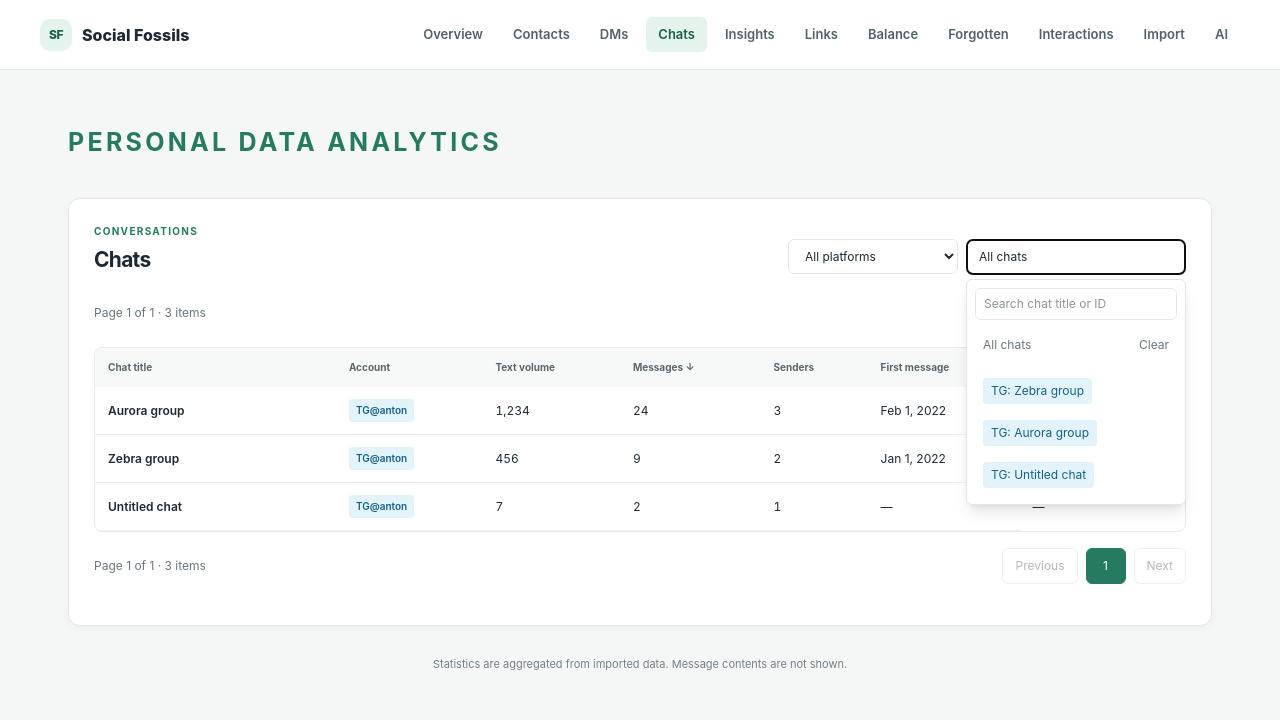
Test: dashboard › filters chats and contacts only after choosing a matching name
Earlier steps of the test are not shown.
In the search field named "Choose a chat search": (1076, 304) [975, 288, 1177, 320], type "  AURORA "
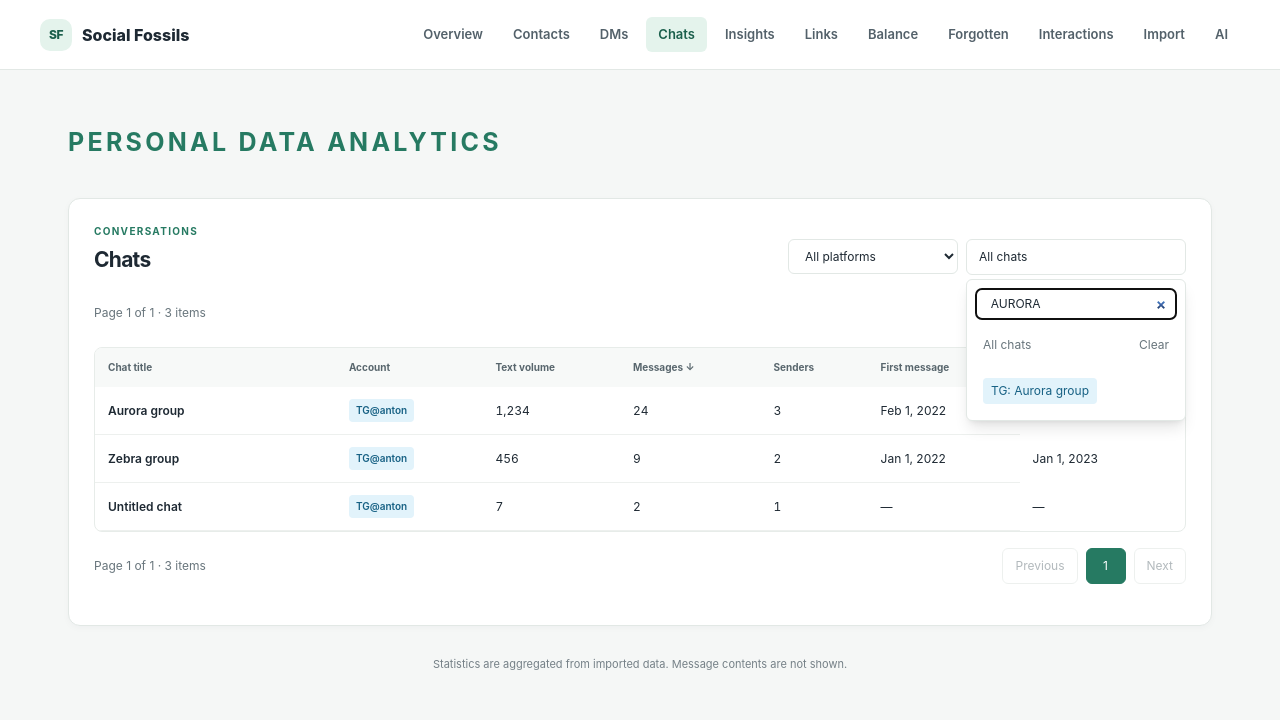
Click the option "TG: Aurora group": (1076, 391) [975, 370, 1177, 412]
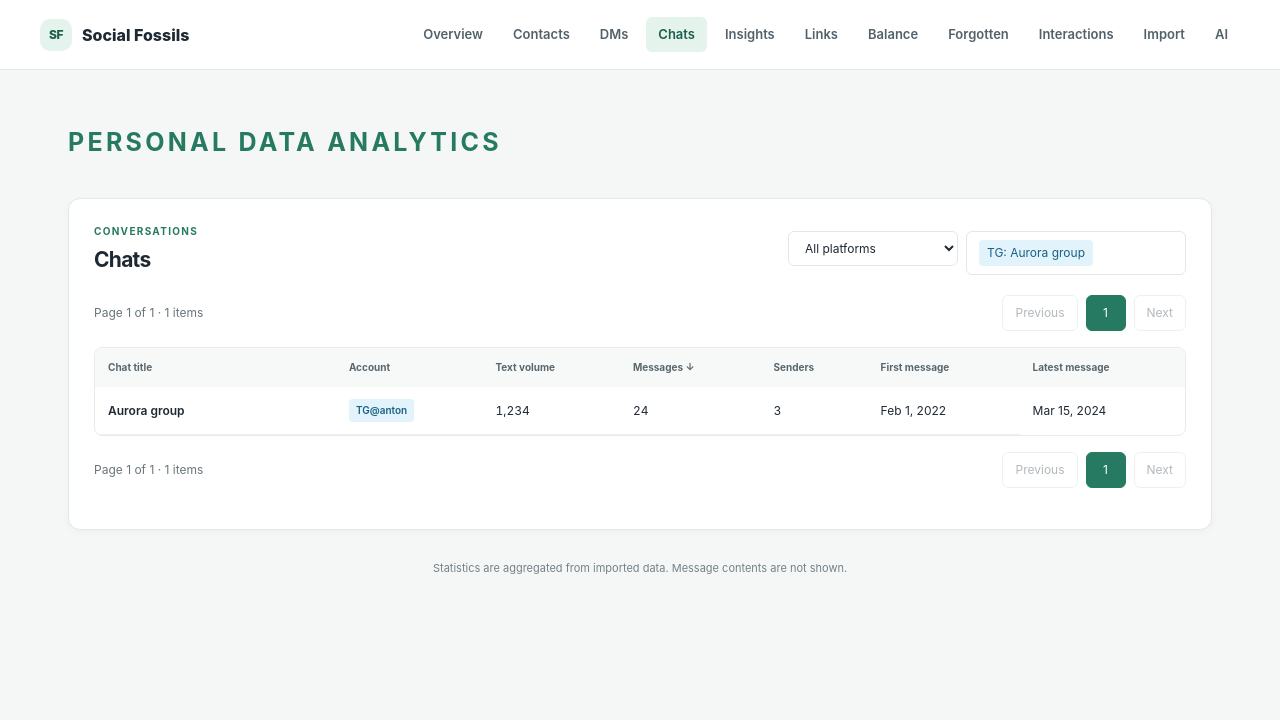
Expected: the row "Aurora group TG@anton 1,234 24 3 Feb 1, 2022 Mar 15, 2024" is shown, [95, 387, 1185, 434]
Expected: the button "Zebra group" is gone
Click the tab "Contacts": (541, 35) [501, 17, 582, 52]
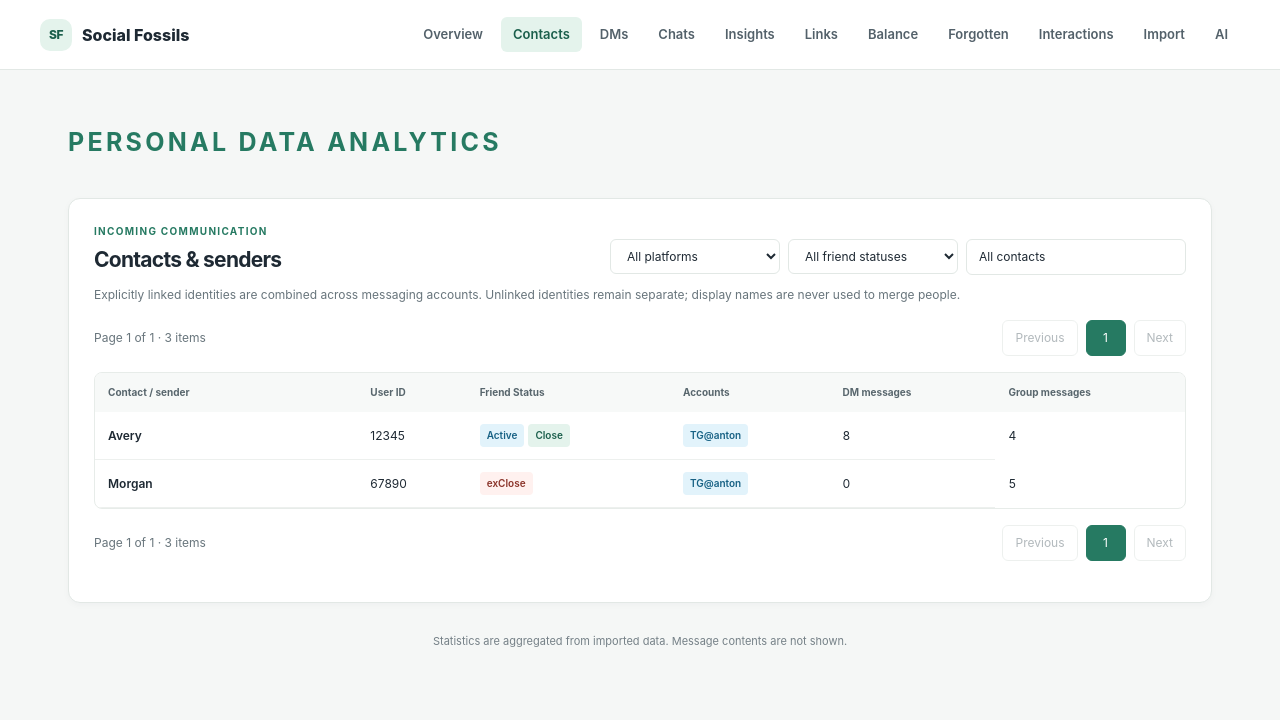
Expected: the panel "Contacts" is shown, [68, 198, 1212, 603]
Expected: the cells read "12345", "ActiveClose", "TG@anton", "8", "4", in this order, [357, 412, 467, 460]; [467, 412, 670, 460]; [670, 412, 830, 460]; [830, 412, 995, 460]; [996, 412, 1185, 460]
Click the button with aria-label "Choose a contact": (1076, 257) [966, 239, 1186, 275]
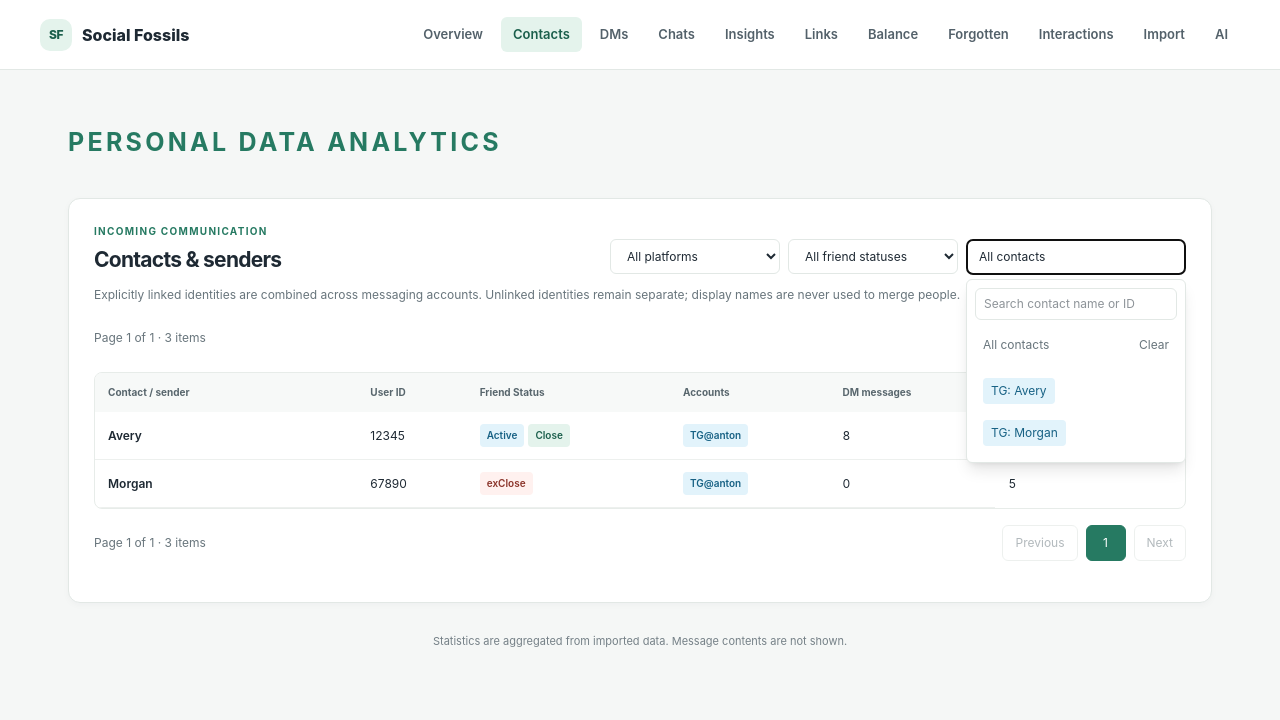
In the search field named "Choose a contact search": (1076, 304) [975, 288, 1177, 320], type "  mORGAN "
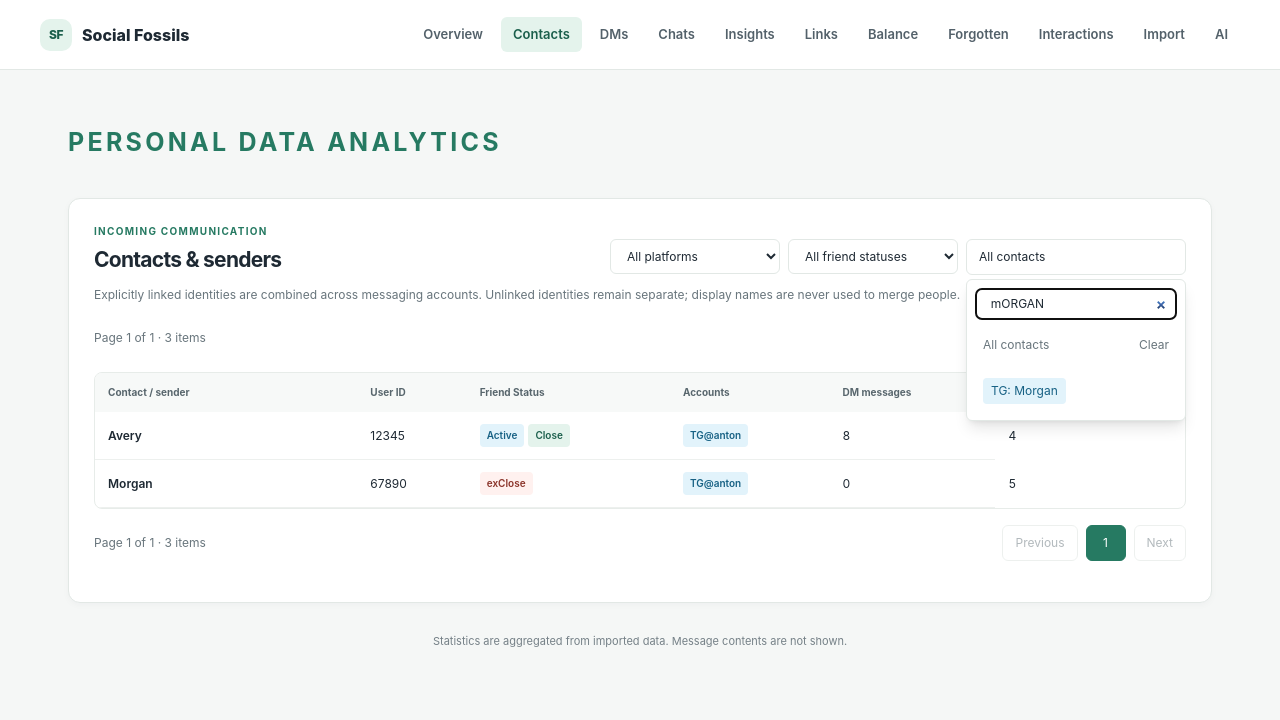
Expected: the number of rows is 3, [95, 373, 1185, 412]; [95, 412, 1185, 460]; [95, 460, 1185, 508]
Click the option "TG: Morgan": (1076, 391) [975, 370, 1177, 412]
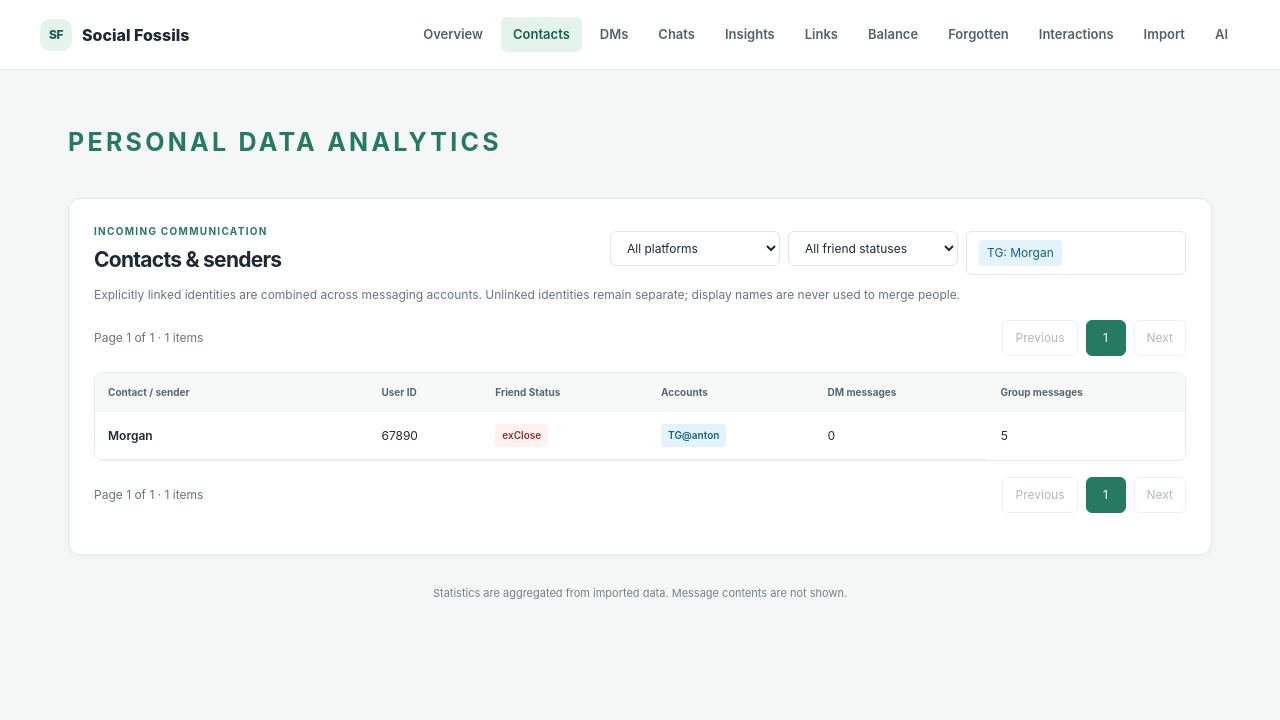
Expected: the row "Morgan 67890 exClose TG@anton 0 5" is shown, [95, 412, 1185, 460]
Expected: the column heading "Avery" is gone
